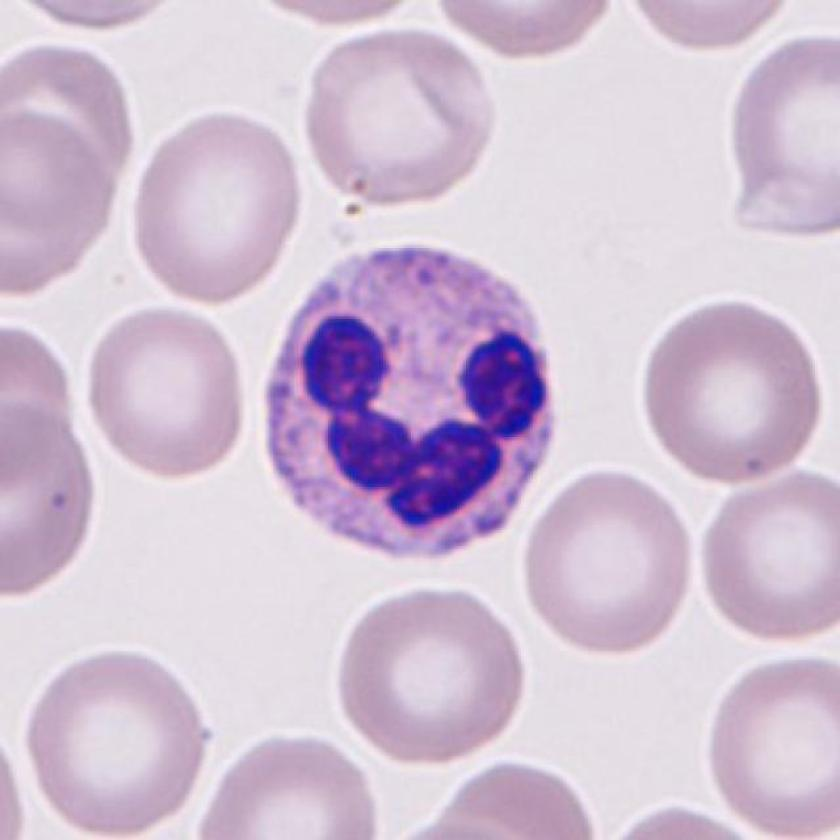neutrophil: (269, 246, 552, 564)
